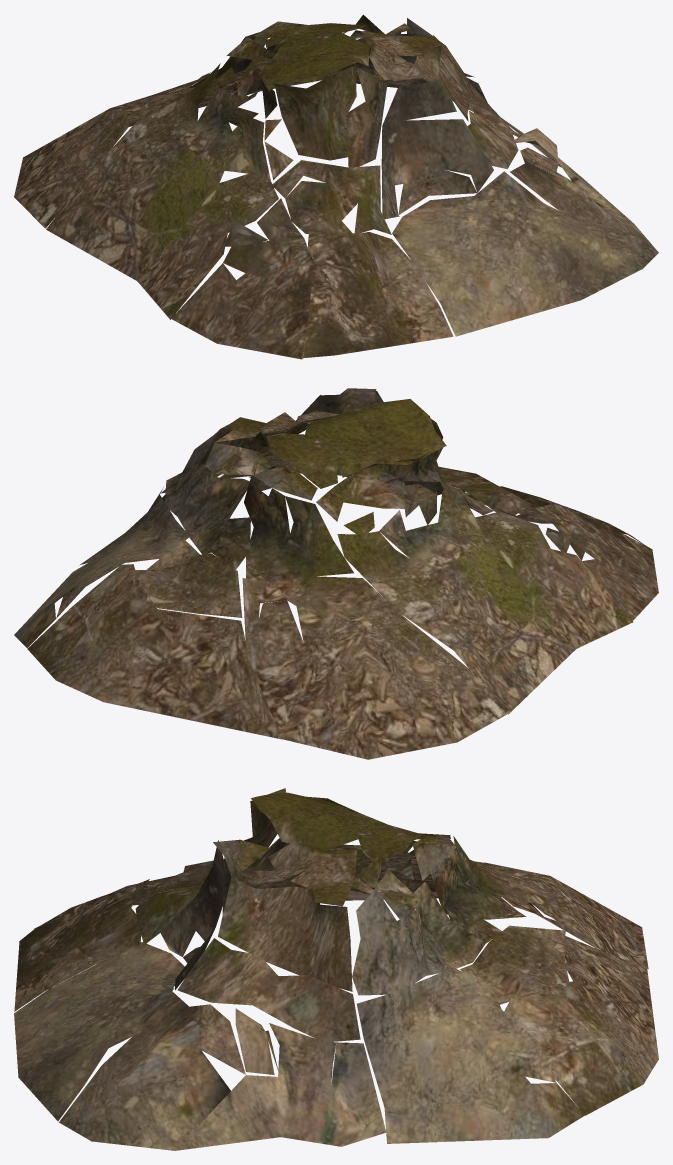
File: stump.glb
3 renders of one model, top to bottom at view 1: azimuth 30°, elevation 25°; view 2: azimuth 150°, elevation 25°; view 3: azimuth 270°, elevation 25°, orthographic. The views are drawn at different scales.
Visible parts, largest first — view 1: tree_stump_01; view 2: tree_stump_01; view 3: tree_stump_01.
Part boxes in pixels (x1,y1,x2,y2): tree_stump_01: (14,14,658,359); tree_stump_01: (14,388,658,759); tree_stump_01: (14,788,658,1150).
Bounding box in the file's own units: 0.9025 × 0.3625 × 0.9998.
Materials: 1 (1 with a texture image).
